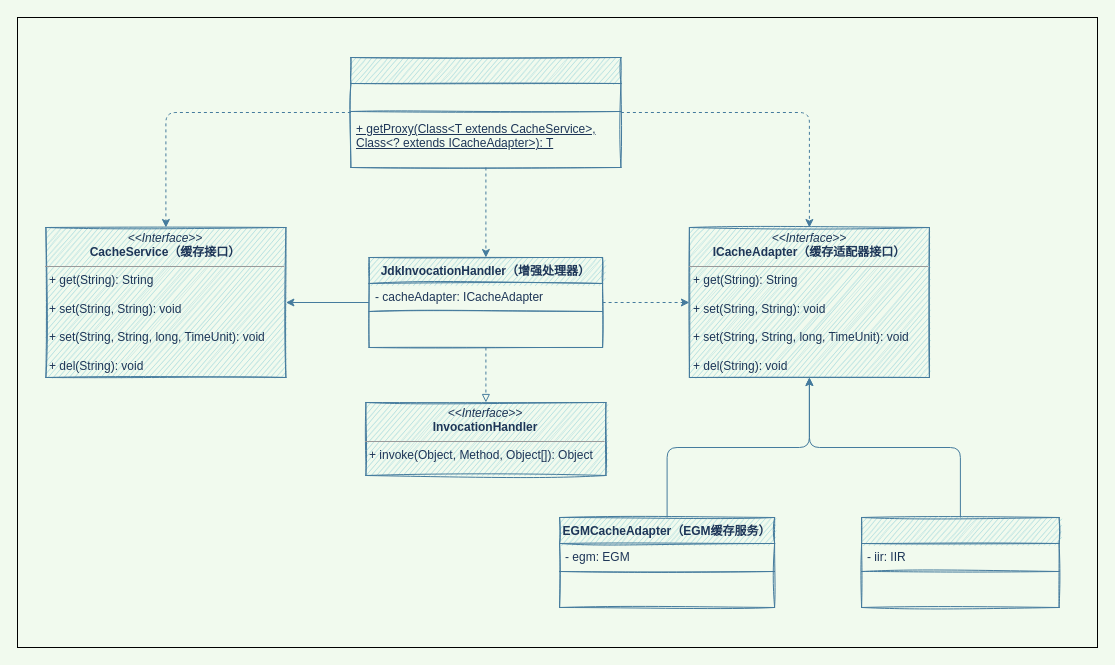
Some shapes in this 1115 by 665 pixel diagram are drawn without their labels. The shapes that lost their labels are listed below. From the top down, each one's box as (x1, y1, x2, y2) in pixels, then its label:
(350, 56, 621, 168): JdkProxyFactory（代理工厂）
(861, 516, 1059, 608): IIRCacheAdapter（IIR缓存服务）
